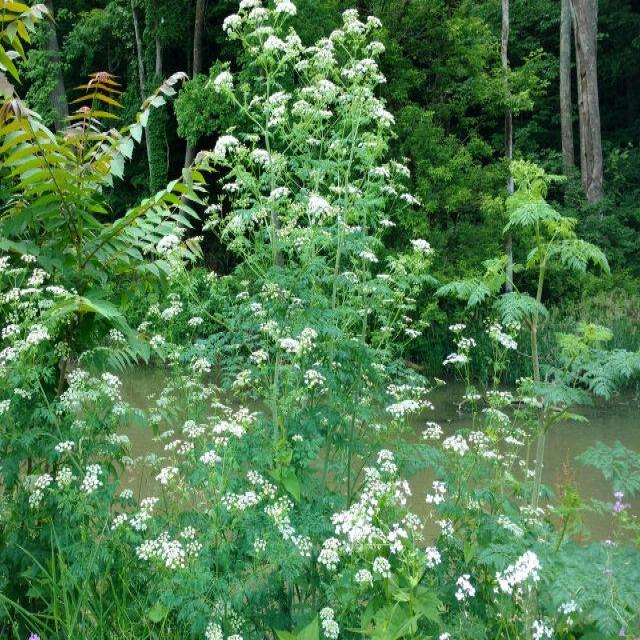Poisonous-Hemlock: (4, 276, 640, 640), (187, 0, 429, 307)
